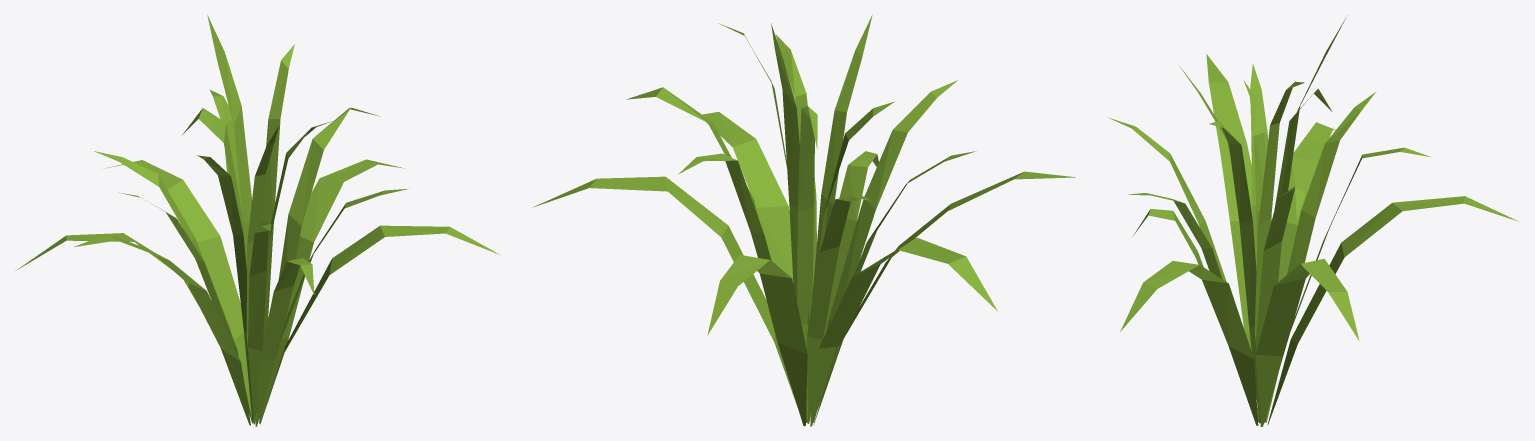
The model's file is SM_Grass_Big_B.fbx.
The picture shows the model from 3 angles, left to right: view 1: azimuth 30°, elevation 25°; view 2: azimuth 150°, elevation 25°; view 3: azimuth 270°, elevation 25°; orthographic projection. The views are drawn at different scales.
Visible parts, largest first — view 1: grass-big-b; view 2: grass-big-b; view 3: grass-big-b.
Boxes of the visible parts, x1,y1,x2,y2 form: grass-big-b: [16, 15, 499, 426]; grass-big-b: [532, 15, 1075, 426]; grass-big-b: [1108, 15, 1518, 426].
Bounding box in the file's own units: 1.72 × 1.55 × 1.43.
